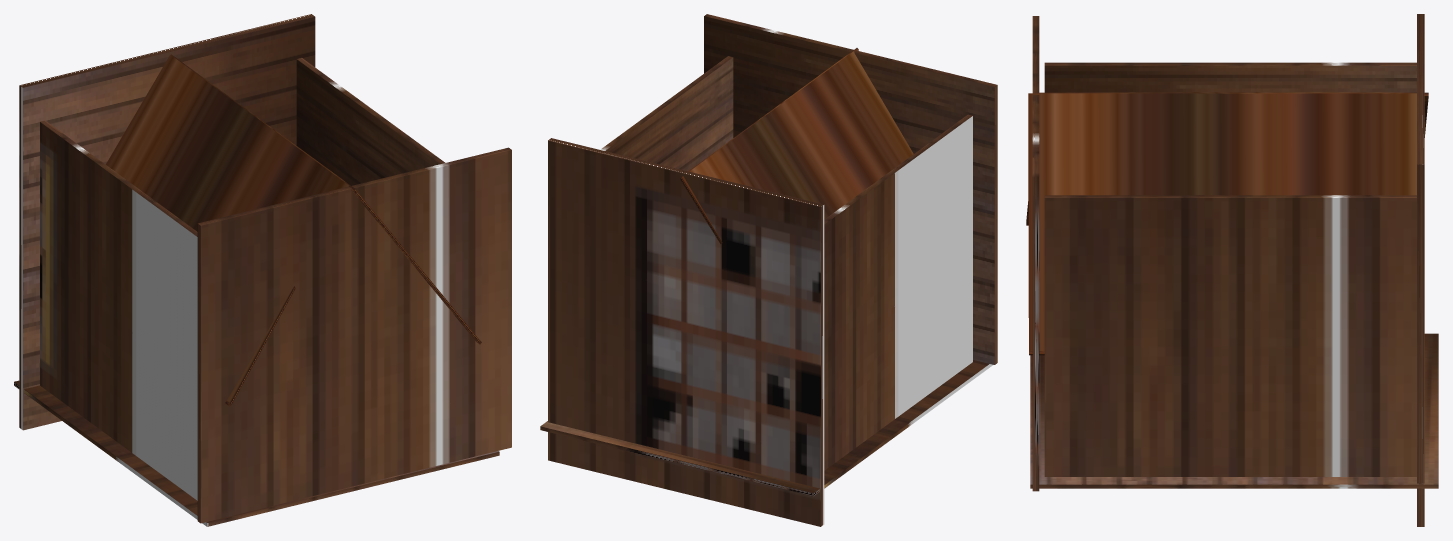
Rendered from escenarioFin.fbx.
3 renders of one model, left to right at view 1: azimuth 30°, elevation 25°; view 2: azimuth 150°, elevation 25°; view 3: azimuth 270°, elevation 25°, orthographic. The views are drawn at different scales.
Visible parts, largest first — view 1: Cube.006, Cube.004, Cube.003, Cube.001, Cube.005, Cube, Cube.002; view 2: Cube.003, Cube.004, Cube.006, Cube.001, Cube.005, Cube; view 3: Cube.005, Cube.002, Cube.004, Cube, Cube.003, Cube.006, Cube.001.
Part boxes in pixels (x1,y1,x2,y2): Cube.006: [197, 147, 511, 523]; Cube.004: [40, 120, 197, 500]; Cube.003: [19, 14, 315, 430]; Cube.001: [106, 55, 349, 406]; Cube.005: [296, 58, 445, 185]; Cube: [14, 380, 499, 526]; Cube.002: [171, 54, 481, 344]; Cube.003: [548, 138, 824, 526]; Cube.004: [824, 114, 972, 470]; Cube.006: [704, 14, 997, 364]; Cube.001: [680, 51, 913, 243]; Cube.005: [600, 56, 733, 171]; Cube: [540, 360, 993, 496]; Cube.005: [1044, 195, 1416, 476]; Cube.002: [1028, 93, 1416, 355]; Cube.004: [1044, 62, 1416, 92]; Cube: [1030, 333, 1438, 488]; Cube.003: [1417, 14, 1424, 526]; Cube.006: [1032, 16, 1039, 491]; Cube.001: [1026, 92, 1428, 225].
Bounding box in the file's own units: 4582 × 4820 × 4972.
Materials: 17 (7 with a texture image).
